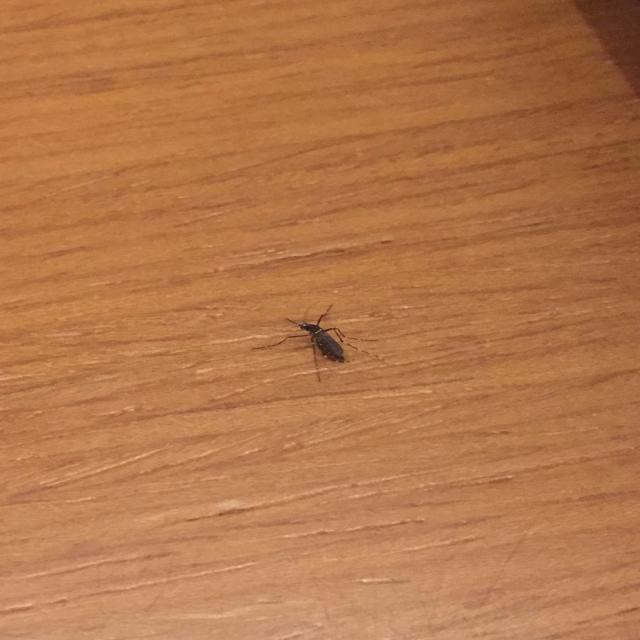albopictus: (246, 296, 390, 387)
